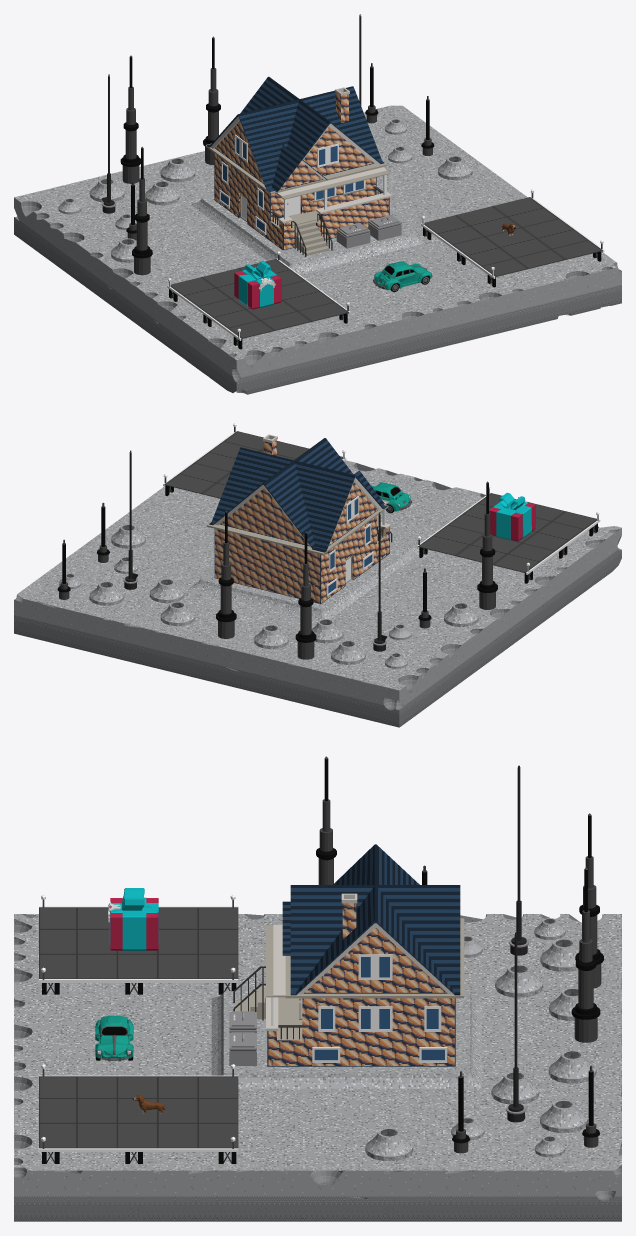
3 views of the same model, one above another, from view 1: azimuth 30°, elevation 25°; view 2: azimuth 150°, elevation 25°; view 3: azimuth 270°, elevation 25° (orthographic). The views are drawn at different scales.
Visible parts, largest first — view 1: Cube.027, Cube.430, Cube.026, Cube.025, Cube.028, OBJRANDOM_GIANT_PRESENT, Cylinder.020, Cylinder.021, VEHICLES_VOLKSWAGEN, Cylinder.017, Cube.029, Cube.030 (+4 smaller); view 2: Cube.027, Cube.430, Cube.025, Cube.028, Cube.026, OBJRANDOM_GIANT_PRESENT, Cylinder.020, Cylinder.021, Cylinder.017, VEHICLES_VOLKSWAGEN, Cylinder.031, Cylinder.028 (+8 smaller); view 3: Cube.027, Cube.430, Cube.026, Cube.025, Cube.028, OBJRANDOM_GIANT_PRESENT, Cylinder.017, VEHICLES_VOLKSWAGEN, Cylinder.020, Cylinder.021, Cylinder.033, Cylinder.031 (+10 smaller).
Part boxes in pixels (left/top/right/bottom): Cube.027: left=14, top=105, right=621, bottom=394; Cube.430: left=205, top=76, right=392, bottom=256; Cube.026: left=421, top=189, right=604, bottom=287; Cube.025: left=167, top=251, right=350, bottom=349; Cube.028: left=191, top=195, right=424, bottom=274; OBJRANDOM_GIANT_PRESENT: left=234, top=261, right=281, bottom=309; Cylinder.020: left=120, top=55, right=140, bottom=183; Cylinder.021: left=132, top=146, right=152, bottom=275; VEHICLES_VOLKSWAGEN: left=373, top=261, right=432, bottom=292; Cylinder.017: left=203, top=36, right=220, bottom=164; Cube.029: left=336, top=222, right=370, bottom=248; Cube.030: left=368, top=215, right=401, bottom=240; Cube.027: left=14, top=460, right=621, bottom=727; Cube.430: left=206, top=434, right=392, bottom=603; Cube.025: left=417, top=485, right=600, bottom=583; Cube.028: left=190, top=538, right=419, bottom=620; Cube.026: left=163, top=423, right=346, bottom=498; OBJRANDOM_GIANT_PRESENT: left=489, top=492, right=535, bottom=541; Cylinder.020: left=295, top=531, right=316, bottom=659; Cylinder.021: left=477, top=481, right=497, bottom=609; Cylinder.017: left=216, top=510, right=236, bottom=638; VEHICLES_VOLKSWAGEN: left=371, top=482, right=411, bottom=513; Cylinder.031: left=89, top=581, right=124, bottom=605; Cylinder.028: left=331, top=640, right=365, bottom=664; Cube.027: left=14, top=914, right=621, bottom=1221; Cube.430: left=233, top=844, right=464, bottom=1066; Cube.026: left=39, top=1064, right=238, bottom=1163; Cube.025: left=39, top=895, right=238, bottom=994; Cube.028: left=211, top=991, right=481, bottom=1088; OBJRANDOM_GIANT_PRESENT: left=108, top=888, right=159, bottom=950; Cylinder.017: left=571, top=867, right=600, bottom=1042; VEHICLES_VOLKSWAGEN: left=95, top=1015, right=133, bottom=1061; Cylinder.020: left=575, top=813, right=603, bottom=988; Cylinder.021: left=316, top=756, right=336, bottom=884; Cylinder.033: left=365, top=1128, right=413, bottom=1160; Cylinder.031: left=540, top=1100, right=587, bottom=1132.
Bounding box in the file's own units: 4000 × 1807 × 4000.
34 materials, 5 textured.
